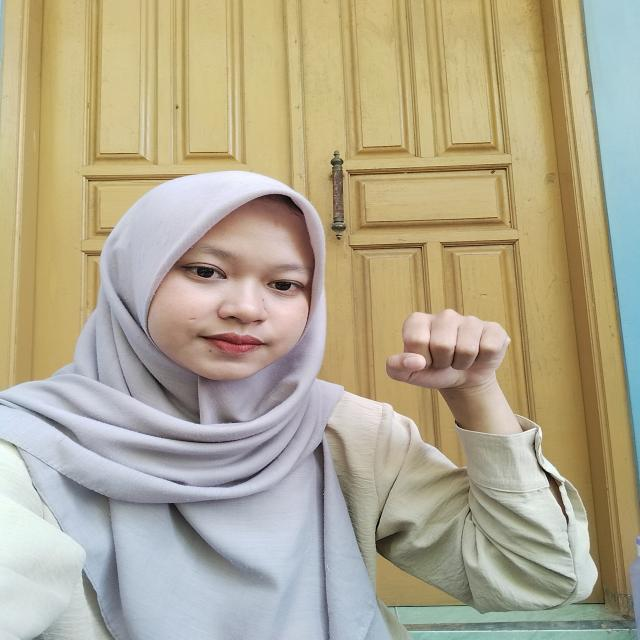baik: (360, 303, 559, 486)
